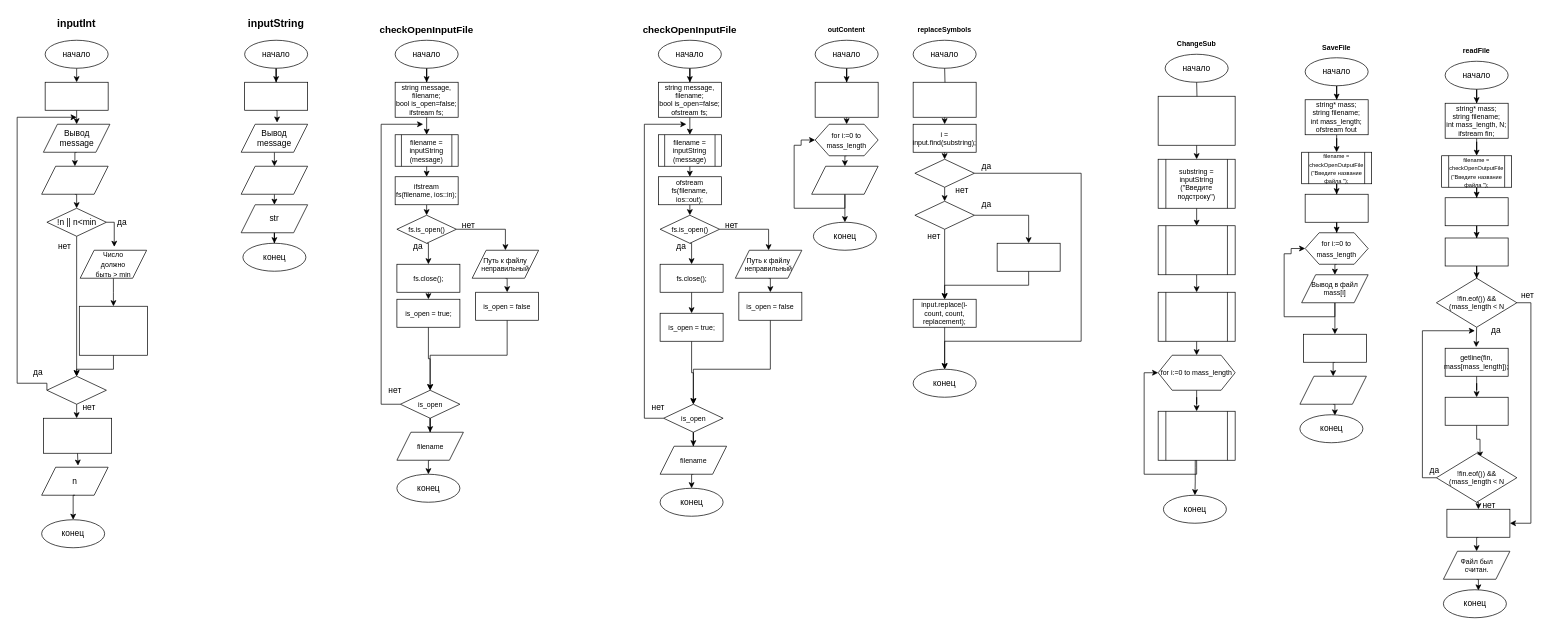
The diagram is 1560 pixels wide and 630 high, and some of its shapes have lost their labels. The centre of each missing label's shape, as x and y in pixels:
cin.clear(); cin.ignore( numeric_limits <streamsize>::max(), '\n');: [113,330]
cin.ignore( numeric_limits <streamsize>::max(), '\n');: [77,435]
count = inputInt ("Введите кол-во символов", 0): [1196,250]
count=i: [1028,257]
fin.close();: [1478,523]
fout.close();: [1334,348]
i<count: [944,215]
i==string::npos: [944,173]
ifstream fin(filename, ios::in);: [1476,211]
int n, min; string message: [76,96]
mass_length = 0;: [1476,251]
mass_length++;: [1476,411]
n<min: [76,390]
ofstream fout(filename, ios::out);: [1336,208]
replacement = inputString ("Введите новую подстроку"): [1196,316]
replaceSymbols (mass[i], substring, count, replacement);: [1196,435]
string message, str;: [276,96]
string* mass; int mass_length;: [846,99]
string* mass; string substring, replacement; int count; size_t i;: [944,99]
string* mass; string substring, replacement; int mass_length, count;: [1196,120]
Ввод n: [74,180]
Ввод str: [274,180]
Вывод *(mass + i): [844,180]
Файл был сохранен.: [1332,390]
